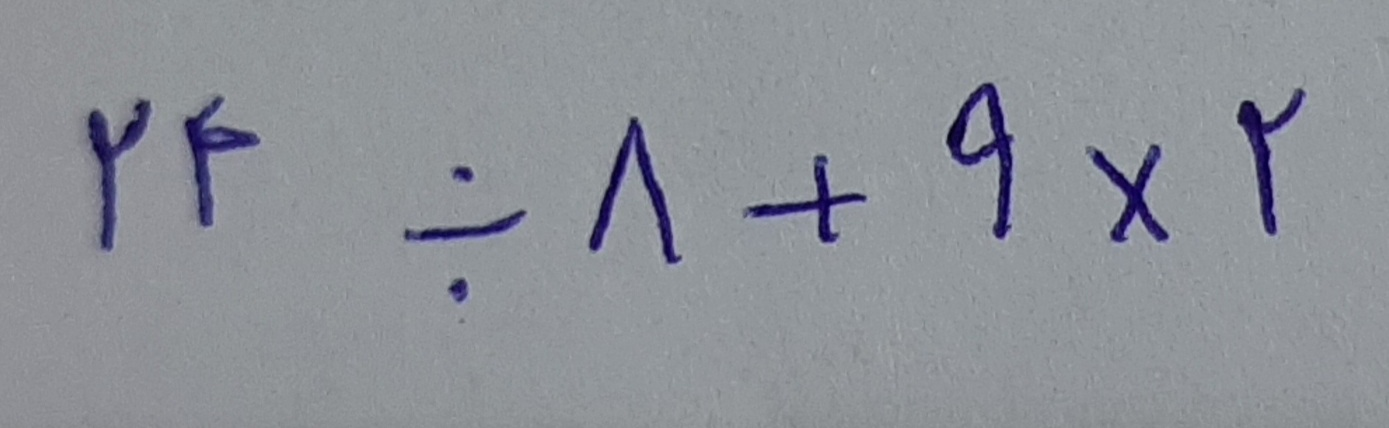character: (404, 167, 524, 304), (588, 118, 682, 238), (183, 97, 263, 228), (948, 82, 1017, 227), (1239, 87, 1307, 234), (87, 99, 151, 251), (742, 157, 861, 228), (1086, 142, 1169, 243)
